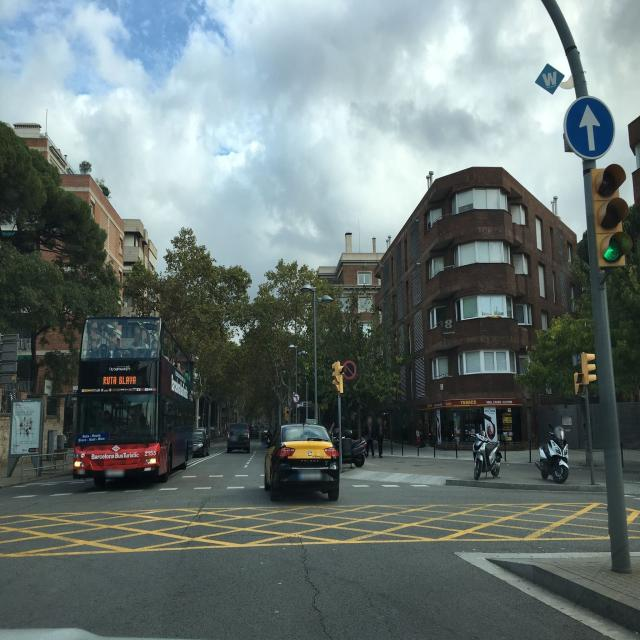forb_stopping: (342, 360, 357, 380)
